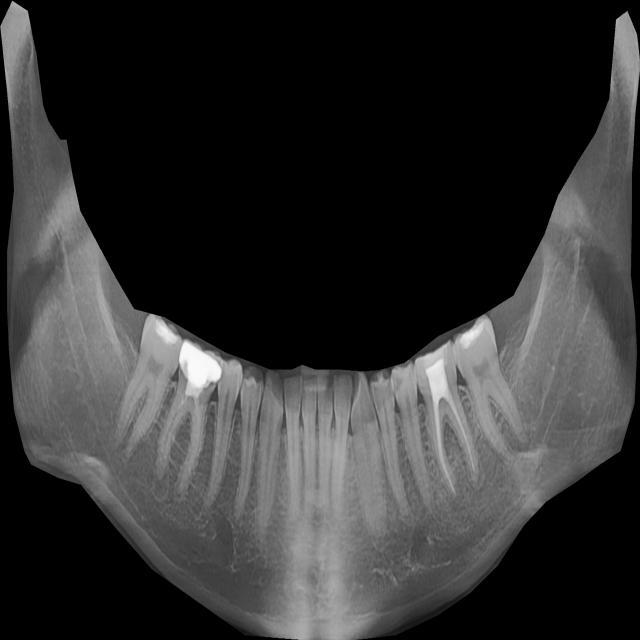mandibula: (0, 1, 640, 640)
